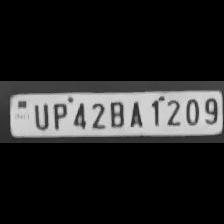0: (182, 96, 202, 126)
1: (146, 97, 162, 127)
2: (162, 97, 182, 127), (88, 100, 106, 130)
4: (68, 100, 88, 130)
9: (200, 95, 220, 125)
A: (126, 98, 146, 128)
B: (107, 98, 125, 128)
P: (48, 100, 68, 130)
U: (30, 100, 50, 130)
